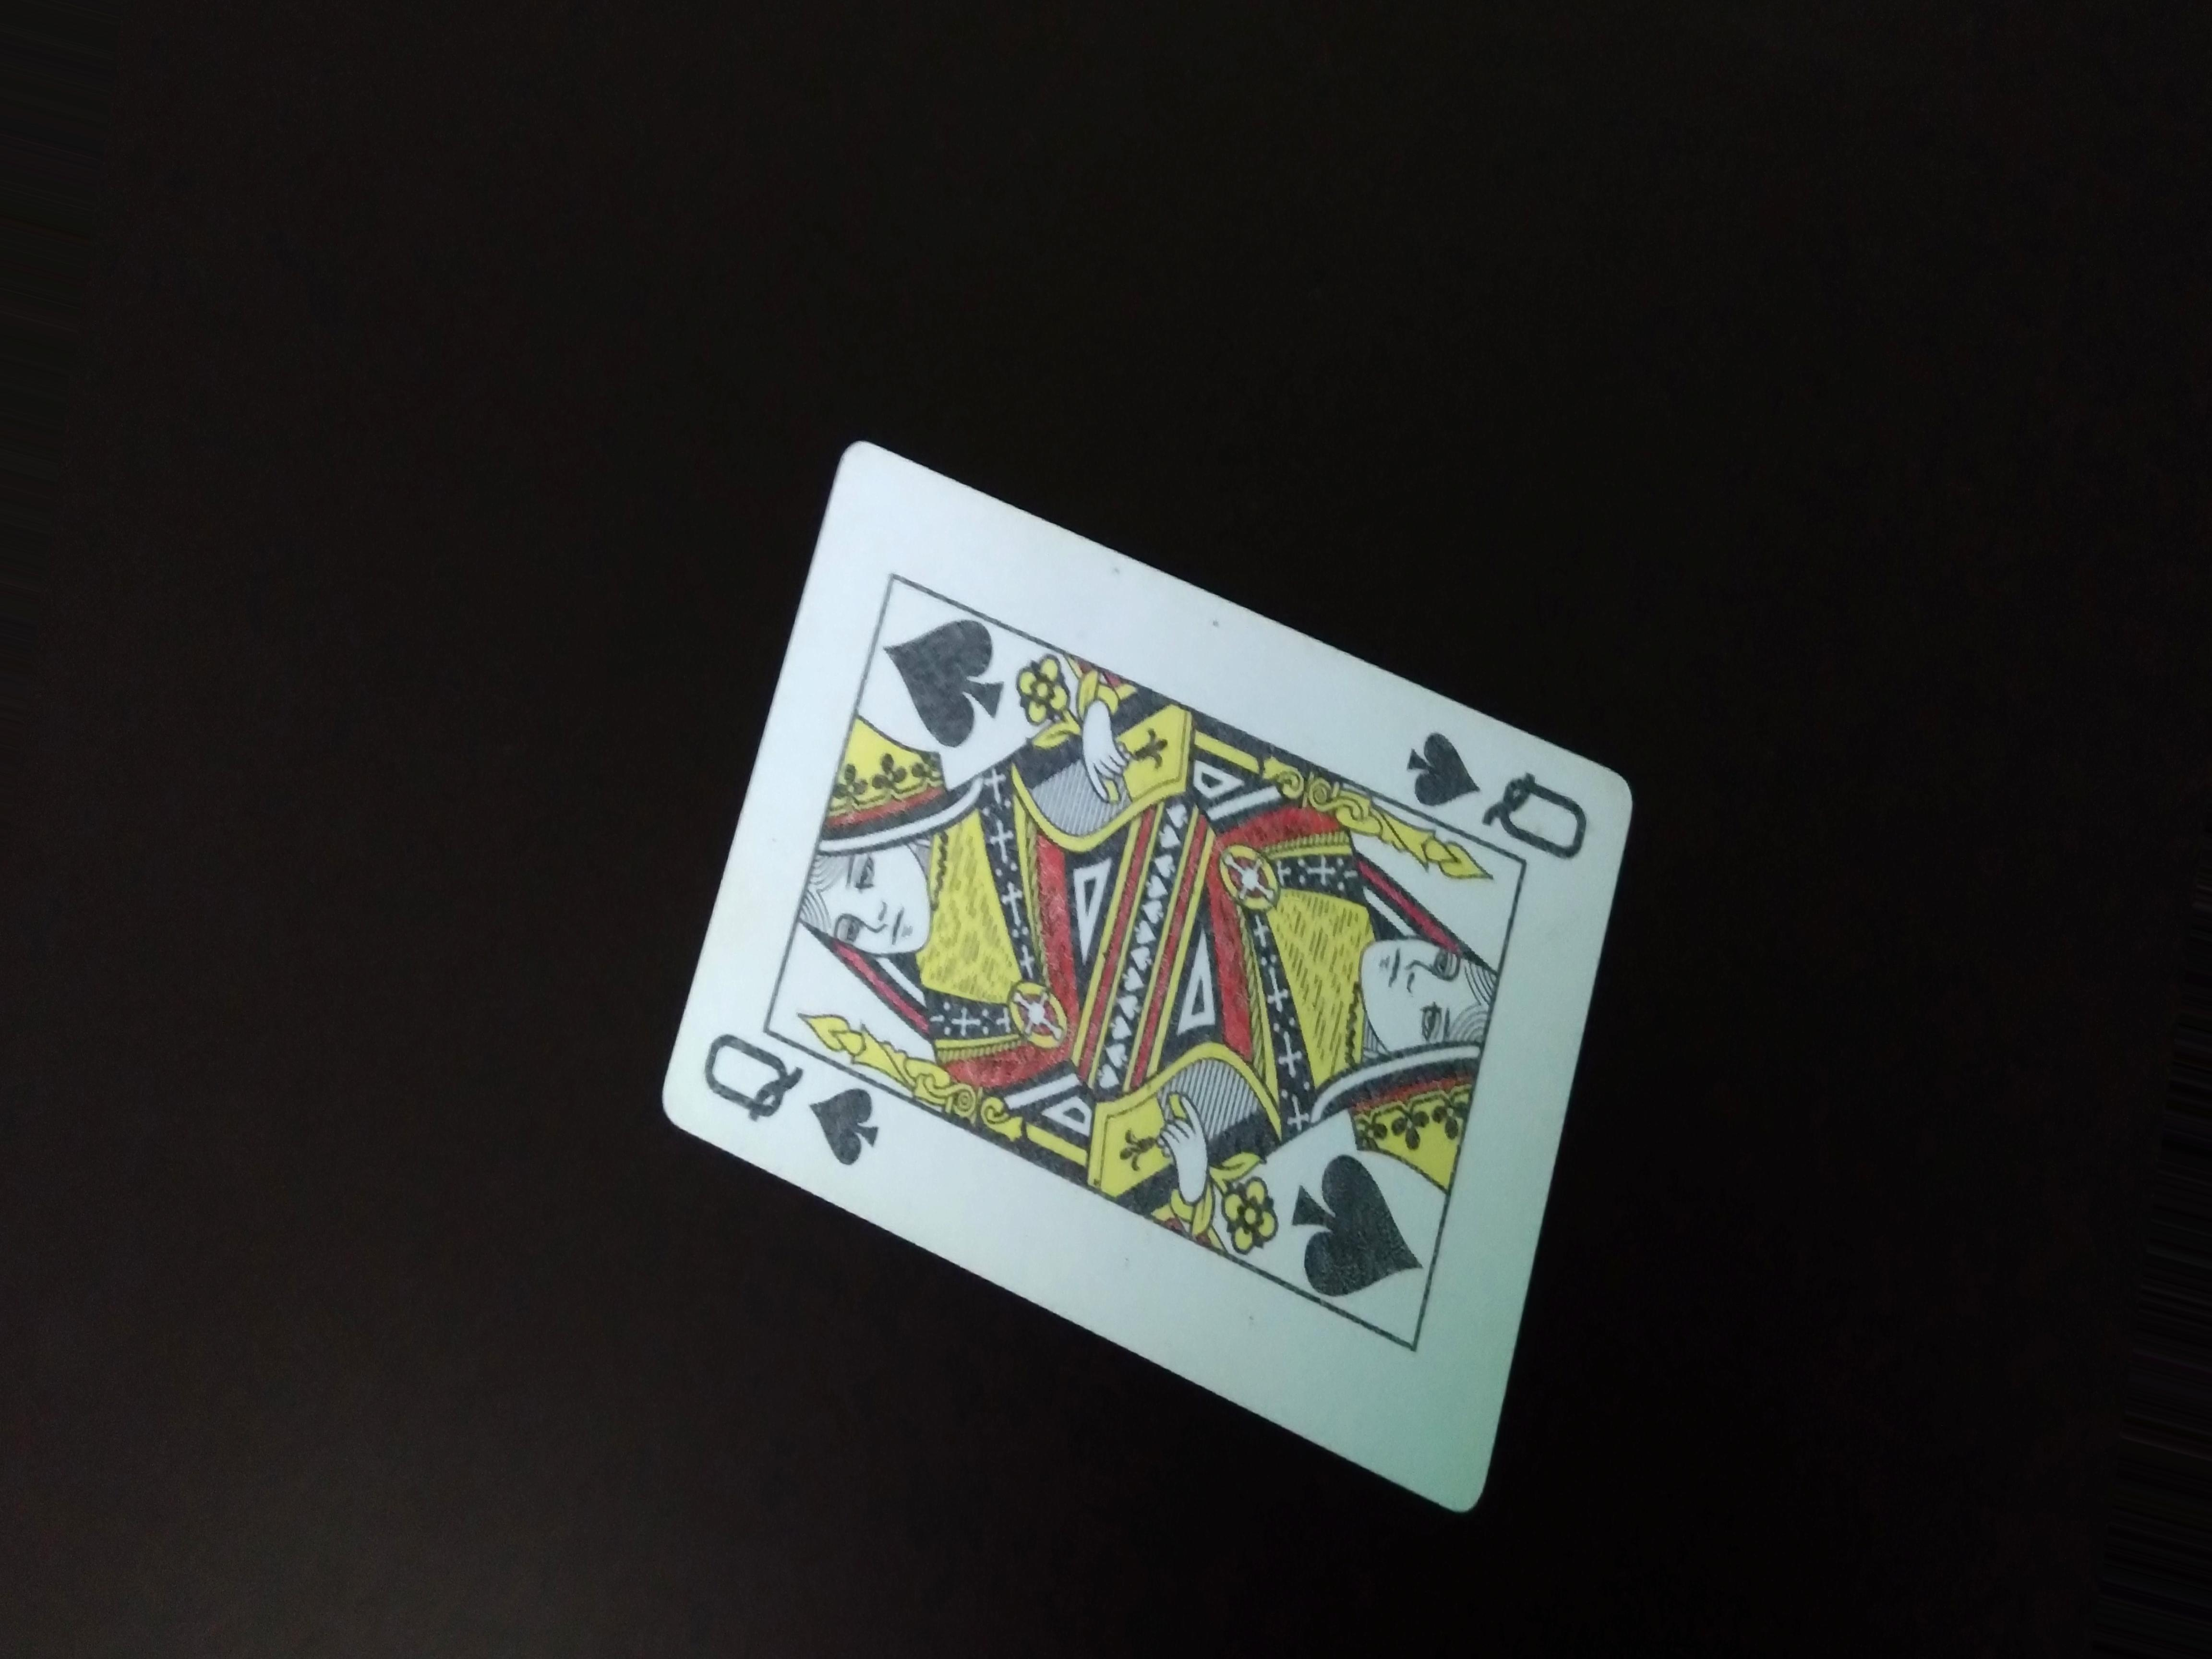QS: (1400, 723, 1594, 863)
